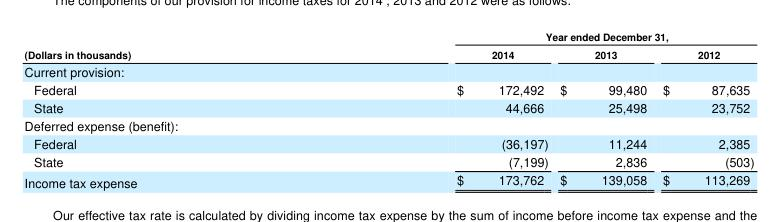table: (23, 28, 753, 191)
table column: (23, 28, 296, 191), (296, 28, 553, 191), (553, 28, 654, 191), (654, 28, 753, 191)
table column header: (23, 28, 753, 61)
table projected row header: (23, 61, 753, 80), (23, 116, 753, 133)
table row: (23, 170, 753, 191), (23, 61, 753, 80), (23, 151, 753, 170), (23, 80, 753, 98), (23, 98, 753, 116), (23, 133, 753, 151), (23, 44, 753, 61), (23, 116, 753, 133), (23, 28, 753, 44)
table spanning cell: (23, 28, 296, 61), (296, 28, 753, 44)
